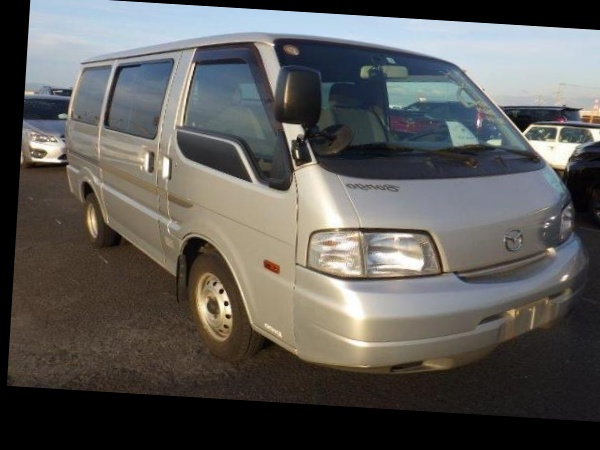van: (53, 15, 589, 373)
